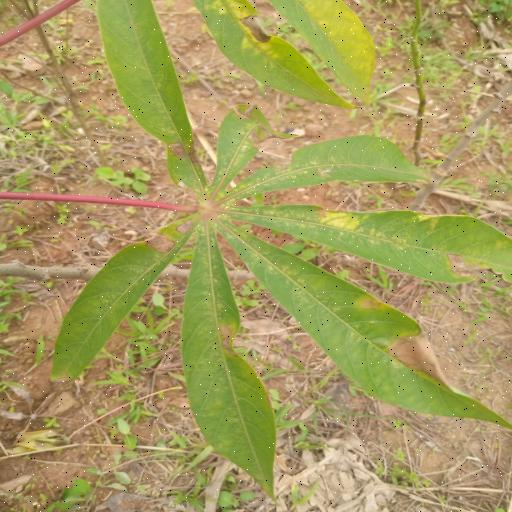Cassava_Brown_Leaf_Spot: (52, 112, 512, 496)
